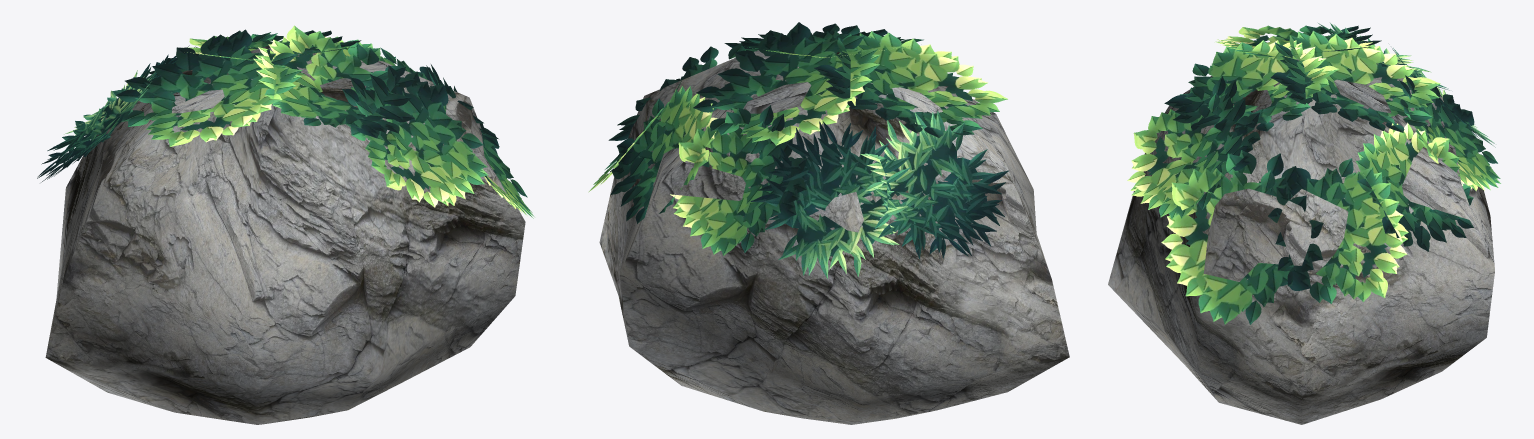
Rendered from shrub_rock_cling.glb.
3 renders of one model, left to right at view 1: azimuth 30°, elevation 25°; view 2: azimuth 150°, elevation 25°; view 3: azimuth 270°, elevation 25°, orthographic. The views are drawn at different scales.
Parts seen in each view (by area): view 1: shrub_rock_cling; view 2: shrub_rock_cling; view 3: shrub_rock_cling.
Boxes of the visible parts, x1=… form: shrub_rock_cling: x1=37, y1=25, x2=534, y2=424; shrub_rock_cling: x1=588, y1=22, x2=1069, y2=424; shrub_rock_cling: x1=1108, y1=23, x2=1500, y2=424.
Bounding box in the file's own units: 1.71 × 1.26 × 1.42.
Materials: 2 (2 with a texture image).
